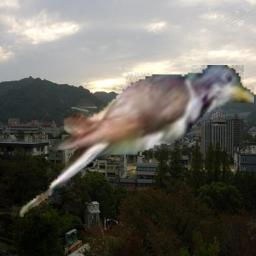Cuckoo: (12, 65, 254, 223)
